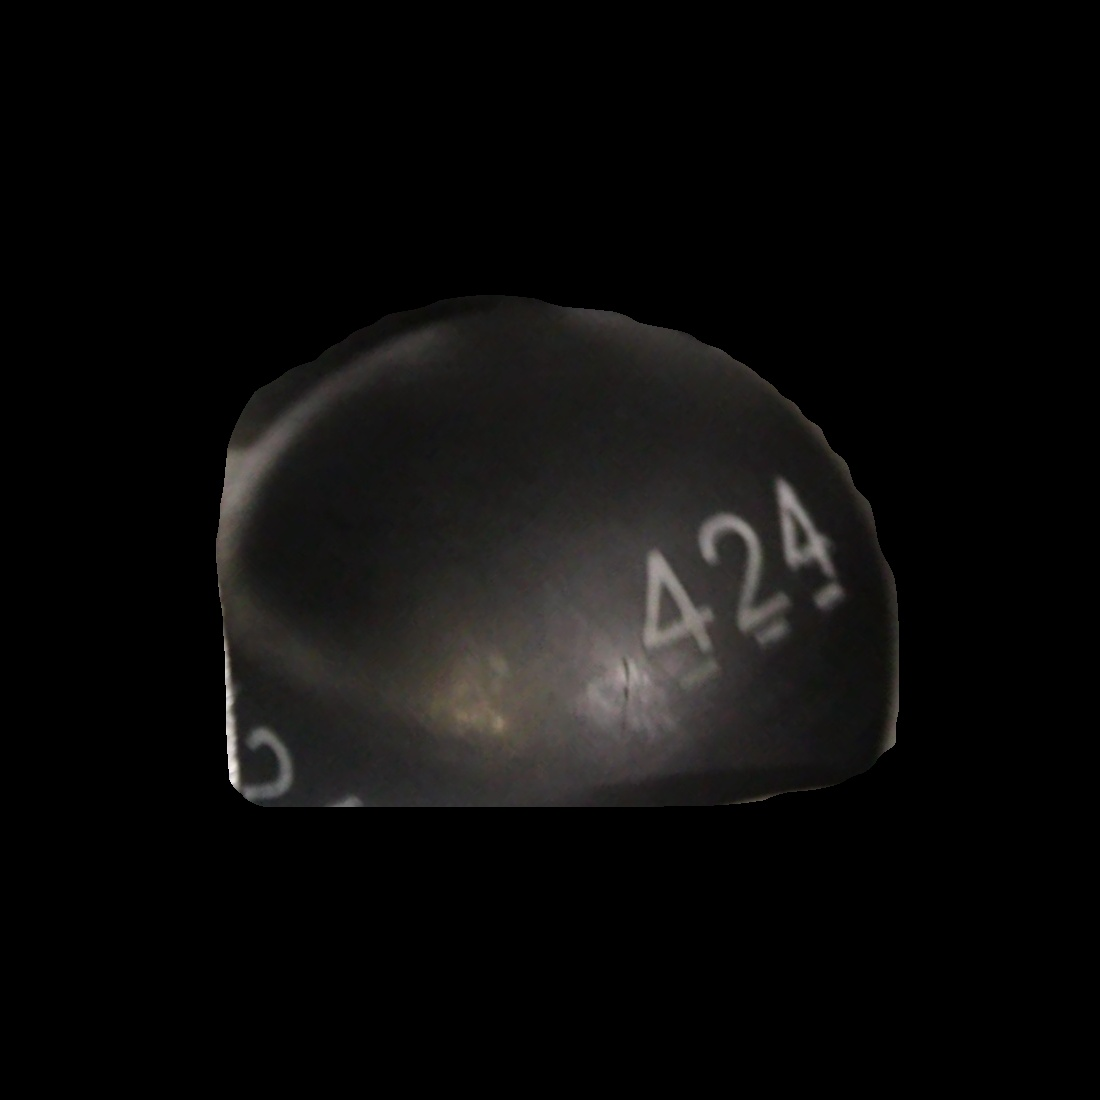digits: (640, 473, 846, 691)
